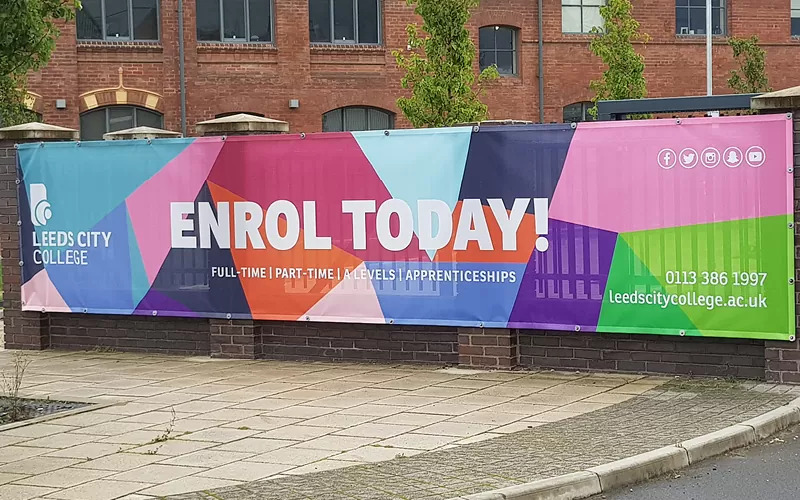vinyl banner: (8, 115, 798, 345)
